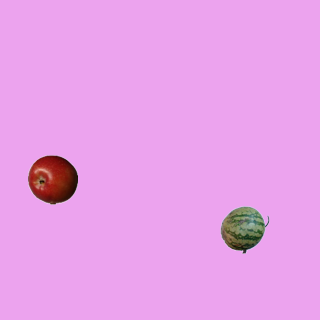Apple Braeburn: (27, 154, 77, 204)
Watermelon: (219, 204, 269, 254)
